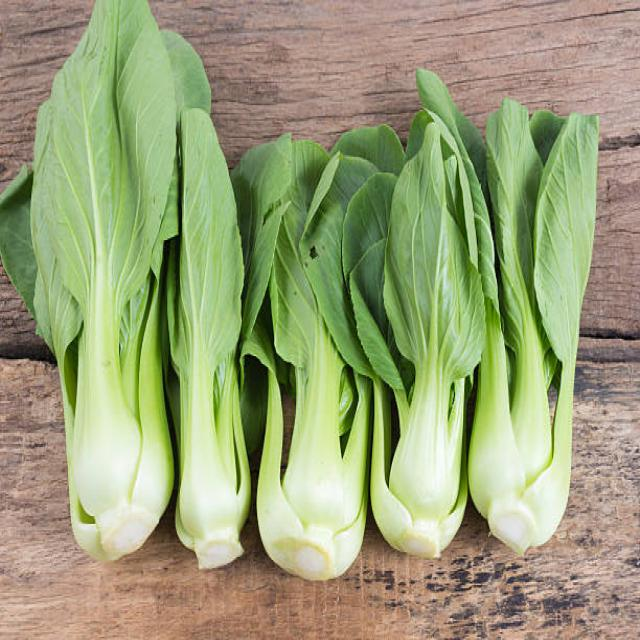Bok Choy: (482, 108, 617, 591), (34, 105, 166, 558), (274, 176, 373, 595), (380, 138, 473, 547), (174, 183, 250, 576)
